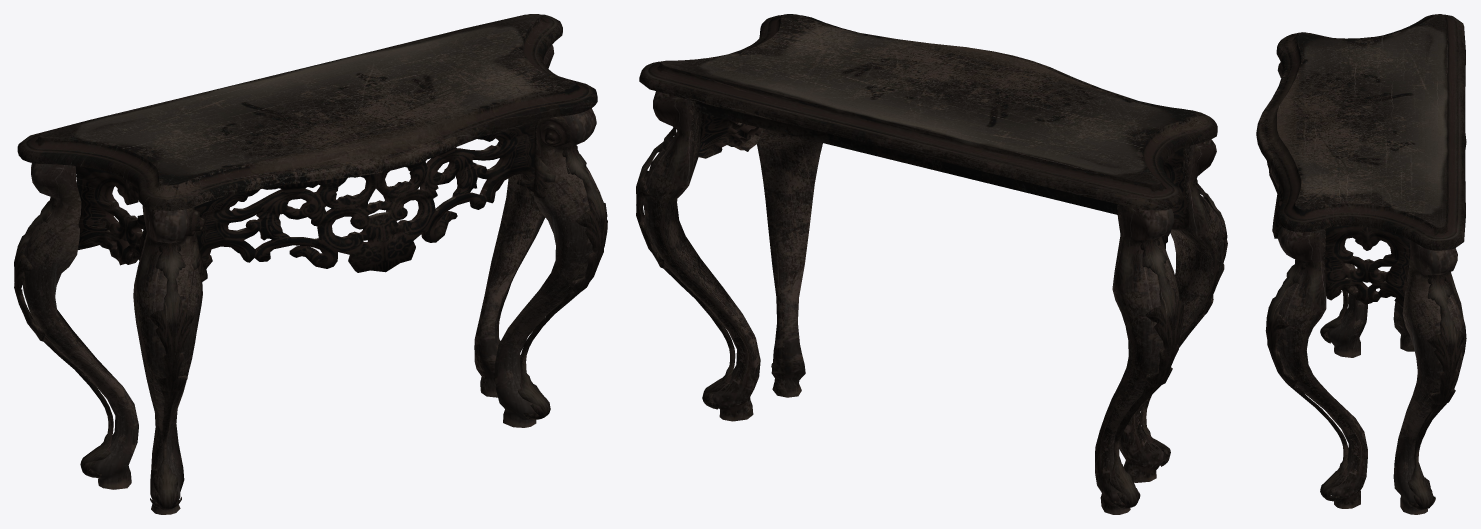
Rendered from Mueble_Clasico-v1.glb.
The picture shows the model from 3 angles, left to right: view 1: azimuth 30°, elevation 25°; view 2: azimuth 150°, elevation 25°; view 3: azimuth 270°, elevation 25°; orthographic projection. The views are drawn at different scales.
Parts seen in each view (by area): view 1: ClassicConsole_01; view 2: ClassicConsole_01; view 3: ClassicConsole_01.
Boxes of the visible parts, x1,y1,x2,y2 form: ClassicConsole_01: [14, 14, 607, 514]; ClassicConsole_01: [636, 14, 1227, 514]; ClassicConsole_01: [1256, 14, 1466, 514].
Size of the model in its own units: 1.54 by 0.9491 by 0.5893.
Materials: 1 (1 with a texture image).
